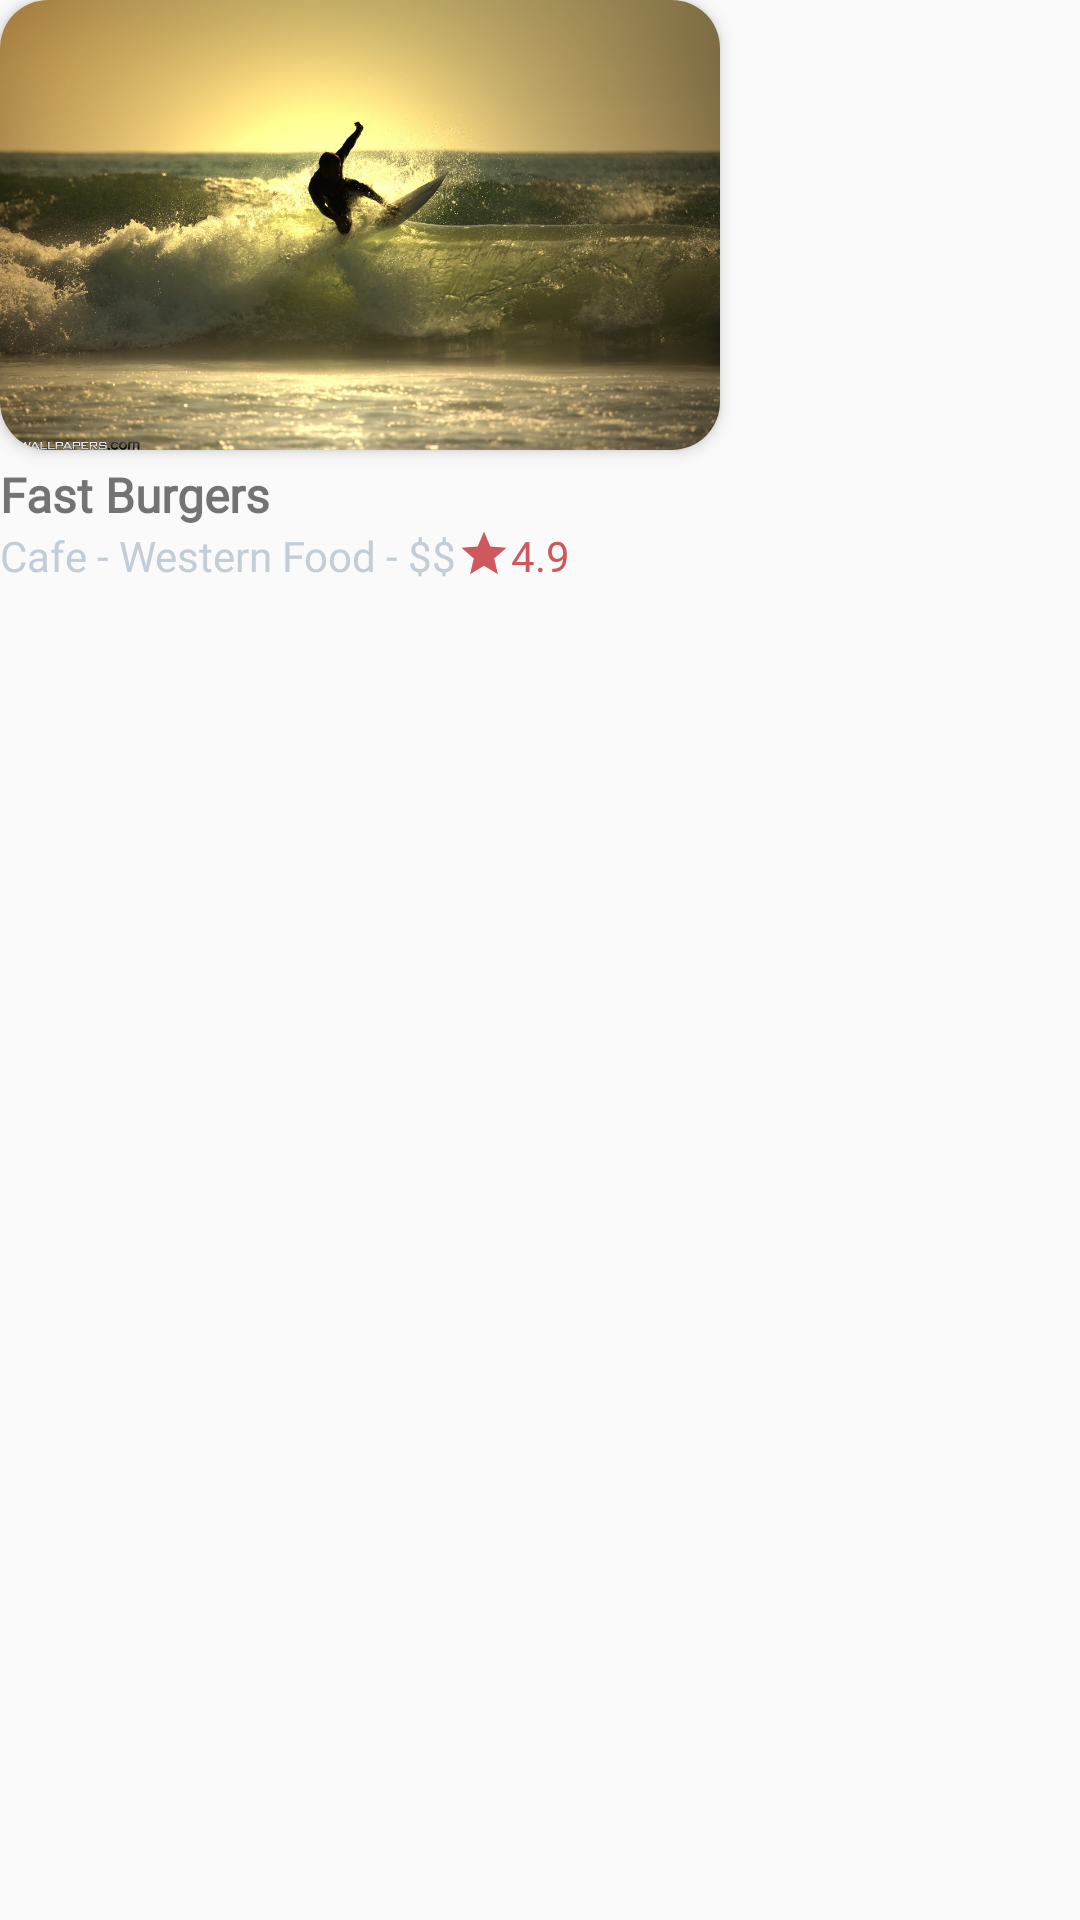

Locate icon controls on the screen. Image size 1080 × 1920, boxes as BBox(x1, y1, x2, y2).
star: BBox(462, 532, 506, 574)
